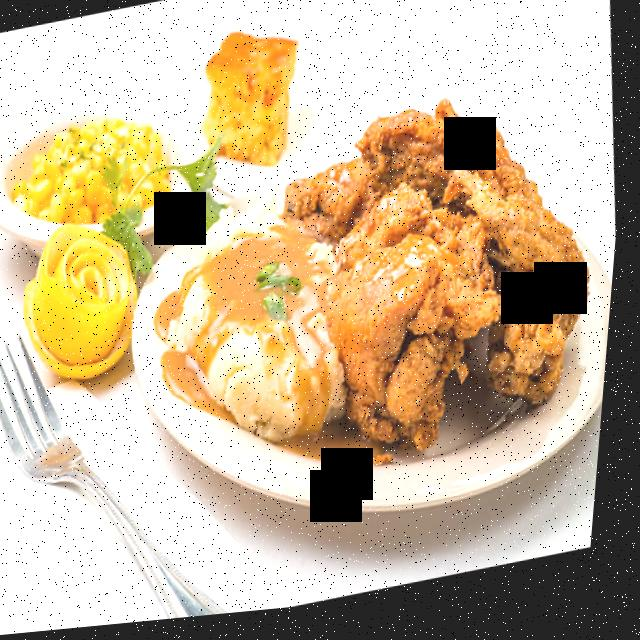Frango: (257, 69, 628, 491)
